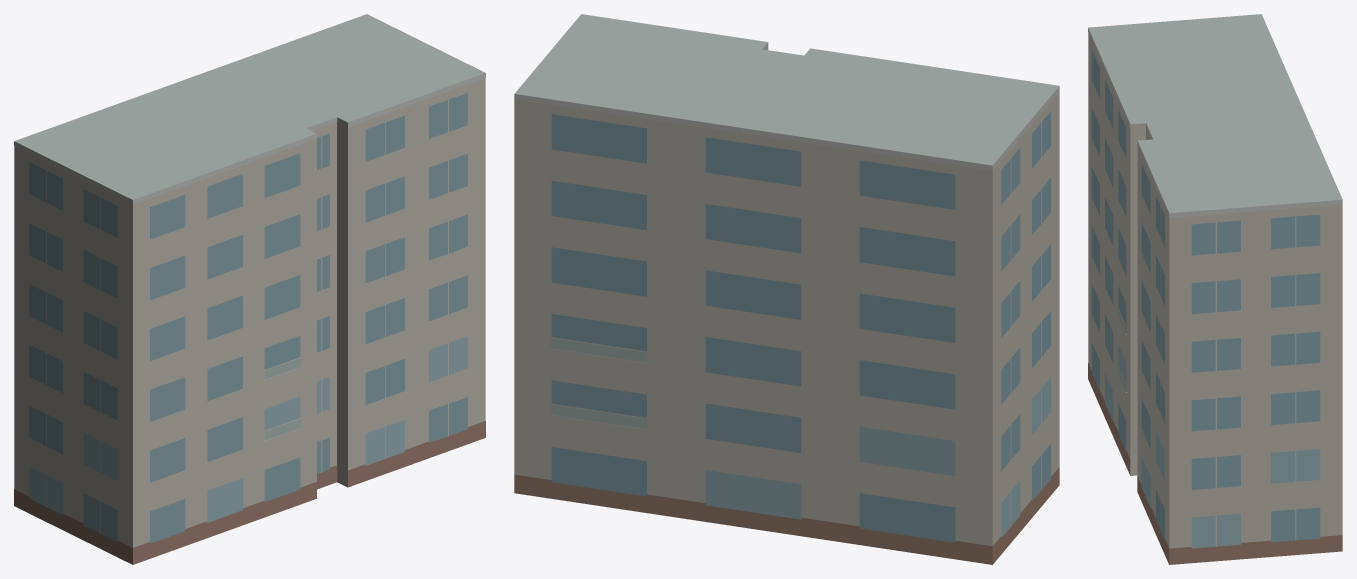
Rendered from survey-upis-32706422.glb.
3 renders of one model, left to right at view 1: azimuth 30°, elevation 25°; view 2: azimuth 150°, elevation 25°; view 3: azimuth 270°, elevation 25°, orthographic. The views are drawn at different scales.
Visible parts, largest first — view 1: survey-upis-32706422.tmp; view 2: survey-upis-32706422.tmp; view 3: survey-upis-32706422.tmp.
Part boxes in pixels (box(x1,y1,x2,y2)): survey-upis-32706422.tmp: box(14, 14, 485, 564); survey-upis-32706422.tmp: box(514, 14, 1059, 564); survey-upis-32706422.tmp: box(1088, 14, 1342, 564).
Bounding box in the file's own units: 22.25 × 18.3 × 12.02.
